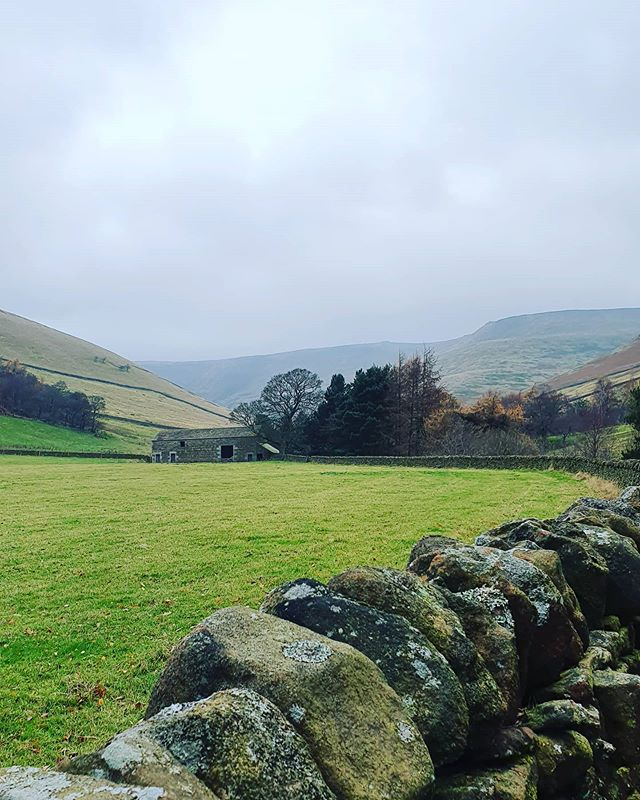building: (143, 413, 270, 466)
grass: (1, 456, 539, 695)
sky: (6, 1, 640, 304)
